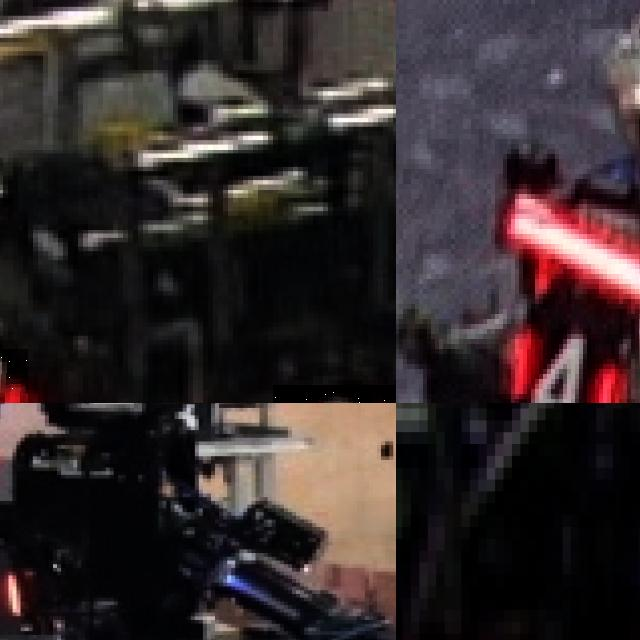R2: (273, 384, 396, 403), (0, 348, 28, 403)
R4: (503, 309, 619, 403)
